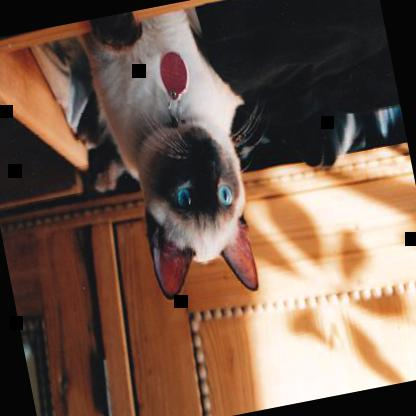cat: (80, 0, 283, 315)
